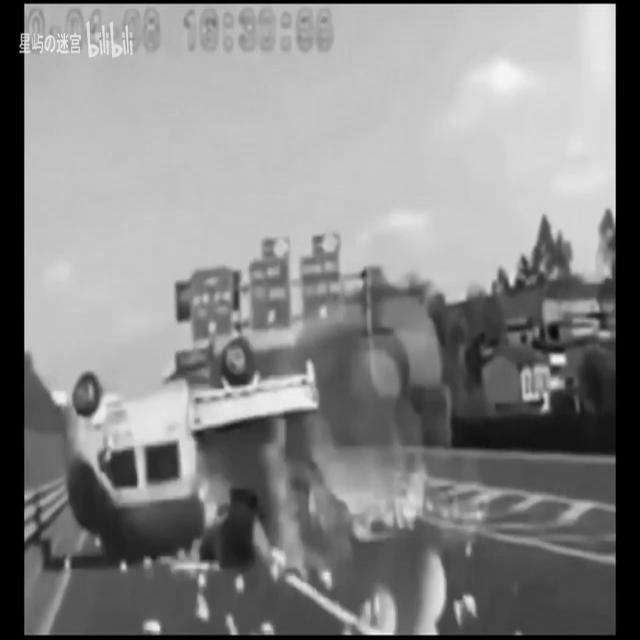accident: (47, 340, 345, 563)
